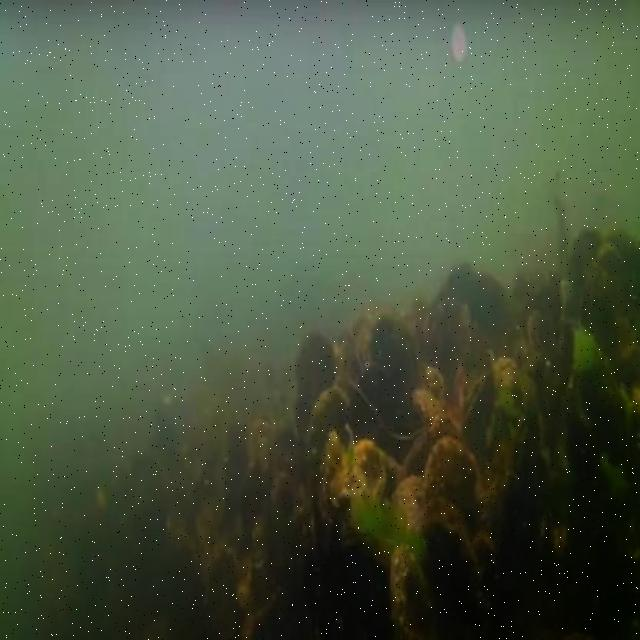Oyster-Closed: (409, 503, 480, 640), (391, 544, 444, 640), (327, 435, 389, 514), (424, 441, 476, 520), (307, 380, 349, 475), (316, 433, 343, 561), (296, 341, 334, 417), (462, 375, 494, 431), (396, 474, 425, 533), (286, 498, 312, 537), (413, 387, 443, 419), (302, 511, 318, 571)
